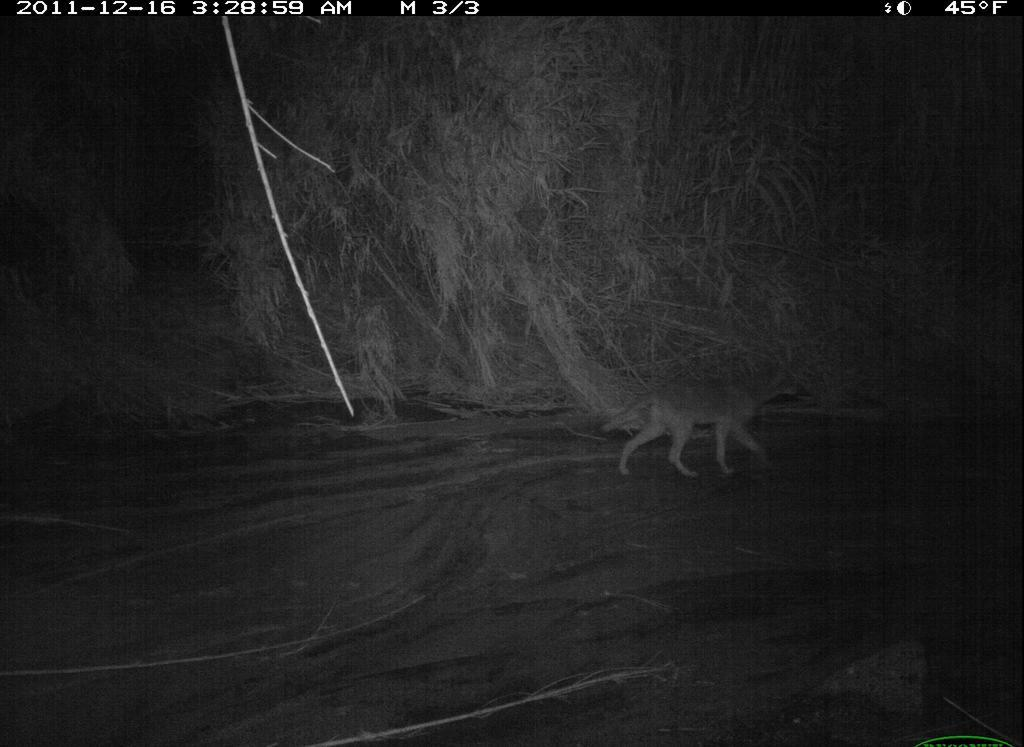coyote: (601, 351, 812, 482)
